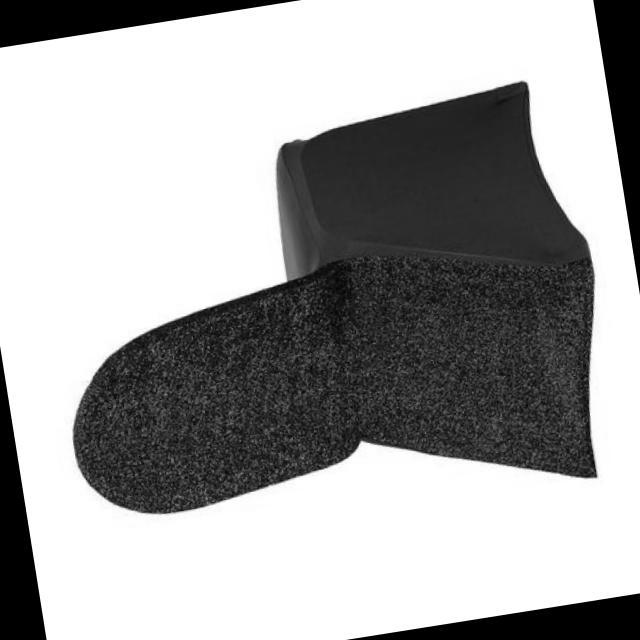chair: (23, 72, 630, 561)
